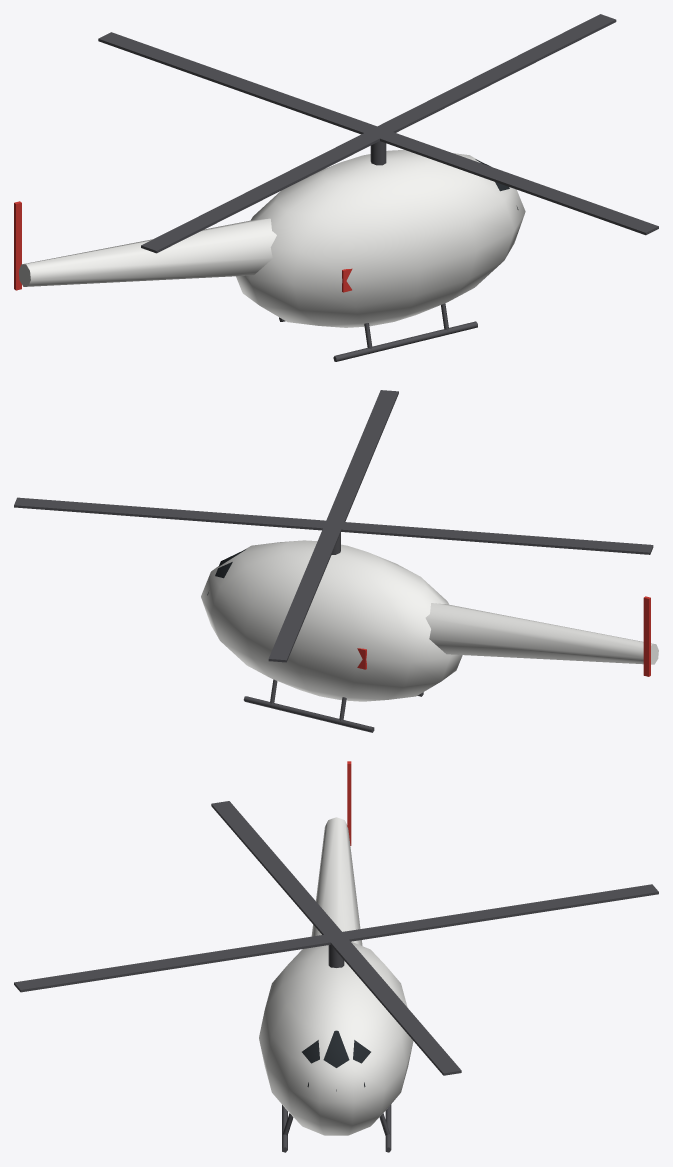
File: SM_Helicopter.fbx
3 renders of one model, top to bottom at view 1: azimuth 30°, elevation 25°; view 2: azimuth 150°, elevation 25°; view 3: azimuth 270°, elevation 25°, orthographic. The views are drawn at different scales.
Parts seen in each view (by area): view 1: SM_Helicopter; view 2: SM_Helicopter; view 3: SM_Helicopter.
Boxes of the visible parts, x1,y1,x2,y2 form: SM_Helicopter: (14, 14, 658, 361); SM_Helicopter: (14, 390, 658, 732); SM_Helicopter: (14, 761, 658, 1152).
Bounding box in the file's own units: 1103 × 330 × 997.
